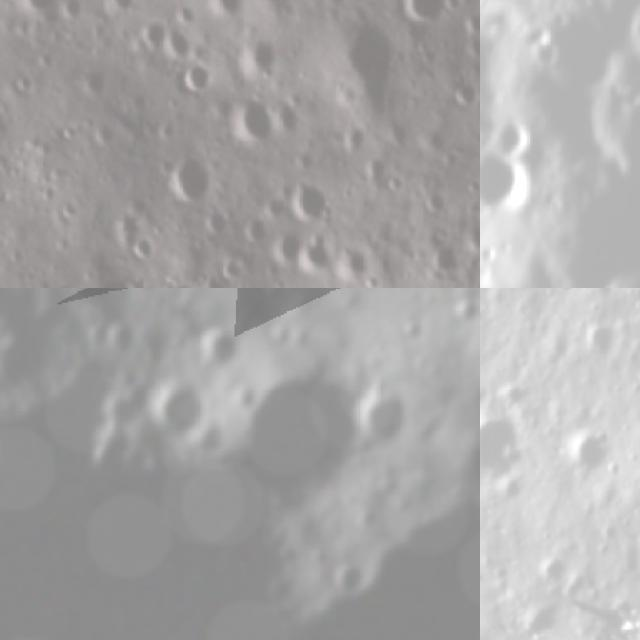crater: (206, 352, 358, 498), (524, 142, 640, 288), (480, 131, 559, 239), (589, 77, 640, 205), (326, 15, 404, 93), (486, 99, 558, 172), (352, 376, 412, 454), (139, 374, 207, 441), (480, 403, 535, 483), (158, 148, 220, 210), (521, 27, 575, 82), (563, 427, 619, 478), (222, 96, 273, 147), (196, 322, 239, 379), (512, 597, 565, 640), (320, 553, 367, 597), (288, 174, 330, 220), (450, 431, 480, 494), (232, 33, 277, 73), (326, 239, 366, 284), (72, 314, 112, 359), (392, 0, 446, 31), (579, 319, 617, 363), (102, 316, 138, 359), (296, 238, 330, 282), (269, 98, 306, 138), (270, 229, 304, 272), (448, 289, 480, 332), (533, 551, 568, 588), (174, 60, 212, 94), (428, 243, 462, 280), (134, 18, 168, 53), (395, 315, 431, 347), (480, 103, 497, 170), (204, 205, 237, 239), (262, 317, 293, 350), (453, 76, 480, 113), (75, 64, 104, 98), (215, 254, 246, 284), (90, 121, 116, 153), (53, 0, 87, 24), (240, 217, 270, 244), (419, 189, 447, 215), (164, 31, 189, 58), (170, 3, 197, 28), (206, 0, 243, 17), (460, 6, 480, 37), (626, 360, 640, 404), (108, 0, 137, 18), (130, 236, 151, 258)
